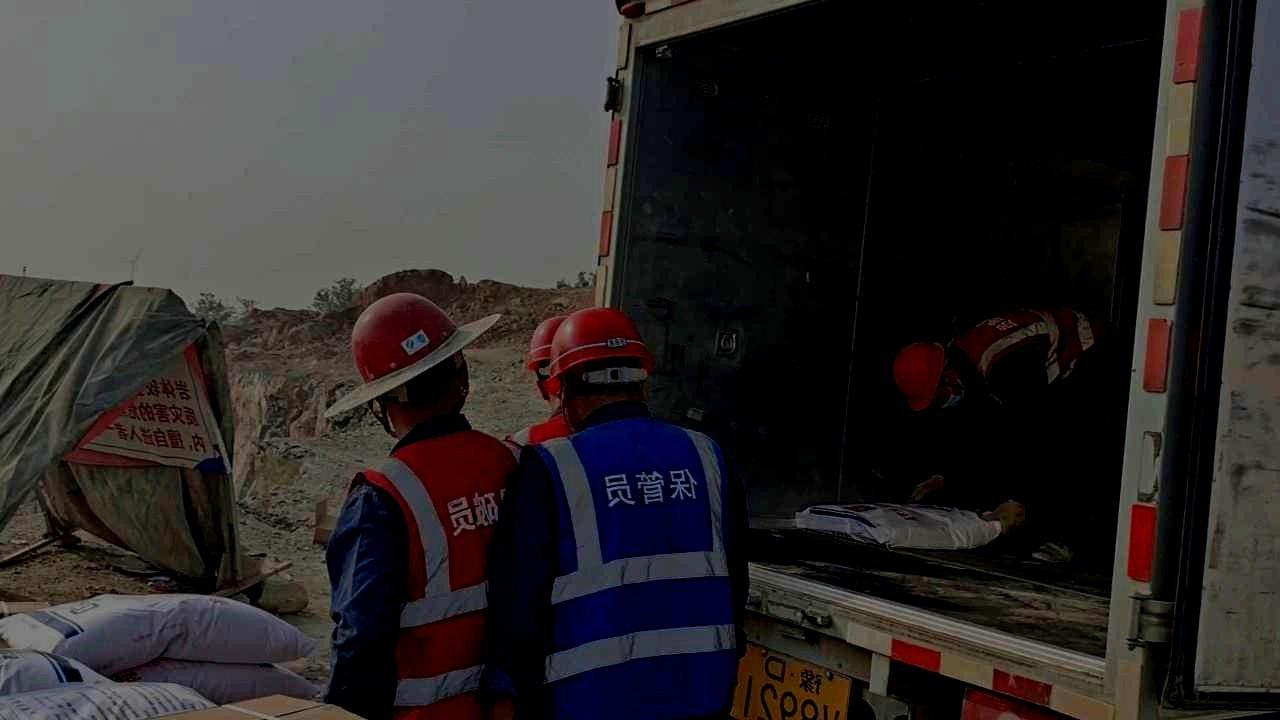helmet: (350, 292, 470, 438), (543, 306, 653, 431), (891, 342, 968, 413), (524, 314, 566, 413)
